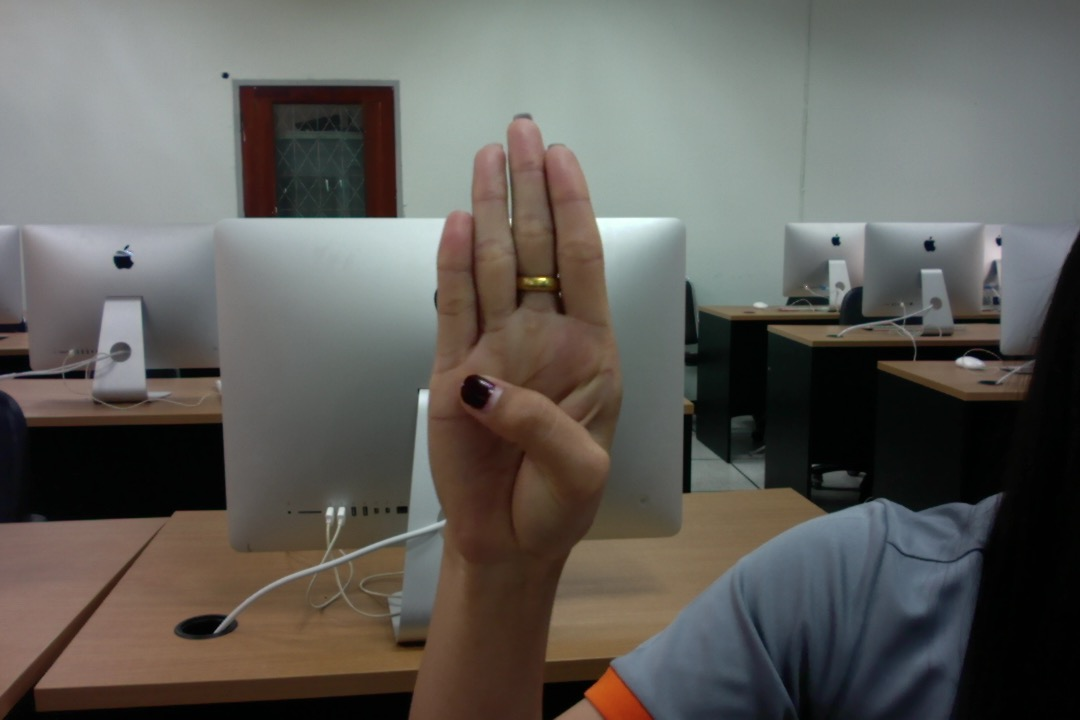bor: (415, 104, 633, 561)
